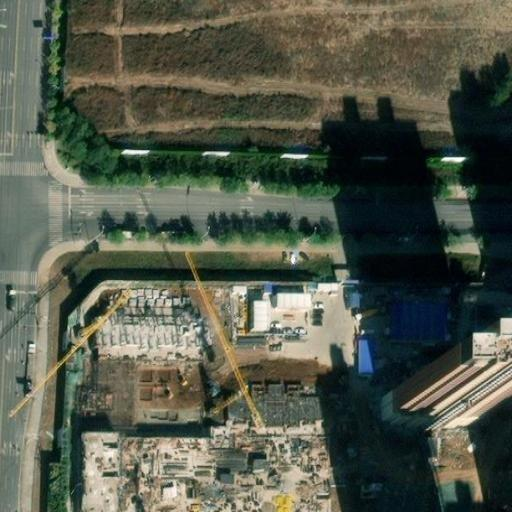building: (401, 370, 498, 420), (230, 385, 327, 425), (95, 316, 203, 349), (78, 431, 118, 512), (354, 335, 374, 375), (272, 289, 311, 309), (247, 296, 266, 330)
